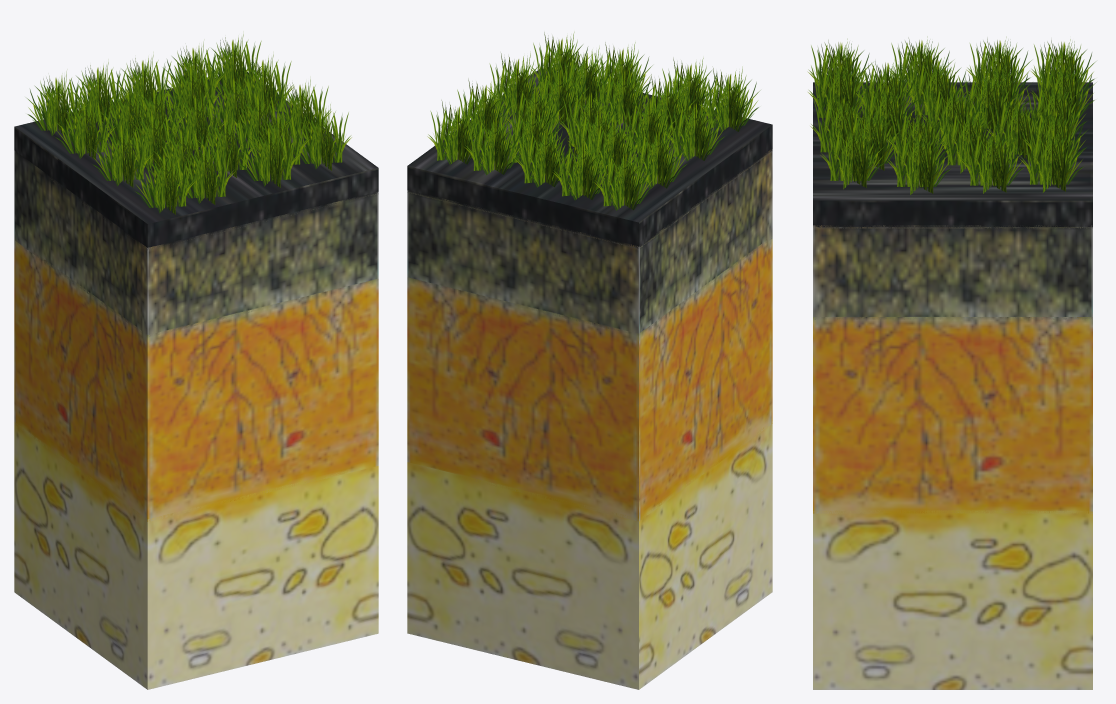
The picture shows the model from 3 angles, left to right: view 1: azimuth 30°, elevation 25°; view 2: azimuth 150°, elevation 25°; view 3: azimuth 270°, elevation 25°; orthographic projection. The views are drawn at different scales.
Parts seen in each view (by area): view 1: 3, 4, 2, 1, pngimg.com - grass_PNG4922.037, pngimg.com - grass_PNG4922.067, pngimg.com - grass_PNG4922.052, pngimg.com - grass_PNG4922.064, pngimg.com - grass_PNG4922.007, pngimg.com - grass_PNG4922.049, pngimg.com - grass_PNG4922.055, pngimg.com - grass_PNG4922.043 (+27 smaller); view 2: 3, 4, 2, 1, pngimg.com - grass_PNG4922.056, pngimg.com - grass_PNG4922.026, pngimg.com - grass_PNG4922.068, pngimg.com - grass_PNG4922.051, pngimg.com - grass_PNG4922.057, pngimg.com - grass_PNG4922.063, pngimg.com - grass_PNG4922.027, pngimg.com - grass_PNG4922.009 (+42 smaller); view 3: 3, 4, 2, 1, pngimg.com - grass_PNG4922.012, pngimg.com - grass_PNG4922.017, pngimg.com - grass_PNG4922.006, pngimg.com - grass_PNG4922.011, pngimg.com - grass_PNG4922.048, pngimg.com - grass_PNG4922.071, pngimg.com - grass_PNG4922.023, pngimg.com - grass_PNG4922.005 (+45 smaller).
Part boxes in pixels (x1,y1,x2,y2): 3: (14,240,378,521); 4: (14,422,378,689); 2: (14,150,378,336); 1: (14,72,378,249); pngimg.com - grass_PNG4922.037: (239,128,300,181); pngimg.com - grass_PNG4922.067: (92,128,153,180); pngimg.com - grass_PNG4922.052: (134,155,195,207); pngimg.com - grass_PNG4922.064: (55,101,115,153); pngimg.com - grass_PNG4922.007: (292,111,351,163); pngimg.com - grass_PNG4922.049: (173,145,235,198); pngimg.com - grass_PNG4922.055: (27,78,87,130); pngimg.com - grass_PNG4922.043: (197,118,255,170); 3: (407,236,772,521); 4: (407,421,772,689); 2: (407,149,772,334); 1: (407,69,772,248); pngimg.com - grass_PNG4922.056: (594,152,654,206); pngimg.com - grass_PNG4922.026: (464,117,525,170); pngimg.com - grass_PNG4922.068: (665,103,725,157); pngimg.com - grass_PNG4922.051: (699,74,760,127); pngimg.com - grass_PNG4922.057: (552,142,610,196); pngimg.com - grass_PNG4922.063: (627,130,688,183); pngimg.com - grass_PNG4922.027: (515,129,573,183); pngimg.com - grass_PNG4922.009: (427,106,487,160); 3: (813,317,1092,513); 4: (813,510,1092,689); 2: (813,225,1092,319); 1: (813,82,1092,228); pngimg.com - grass_PNG4922.012: (960,130,1025,185); pngimg.com - grass_PNG4922.017: (887,132,952,186); pngimg.com - grass_PNG4922.006: (820,126,885,180); pngimg.com - grass_PNG4922.011: (1019,130,1084,184); pngimg.com - grass_PNG4922.048: (808,63,869,117); pngimg.com - grass_PNG4922.071: (905,60,968,115); pngimg.com - grass_PNG4922.023: (937,110,1000,165); pngimg.com - grass_PNG4922.005: (987,100,1047,154).
Bounding box in the file's own units: 2.05 × 4.38 × 2.15.
76 materials, 76 textured.
